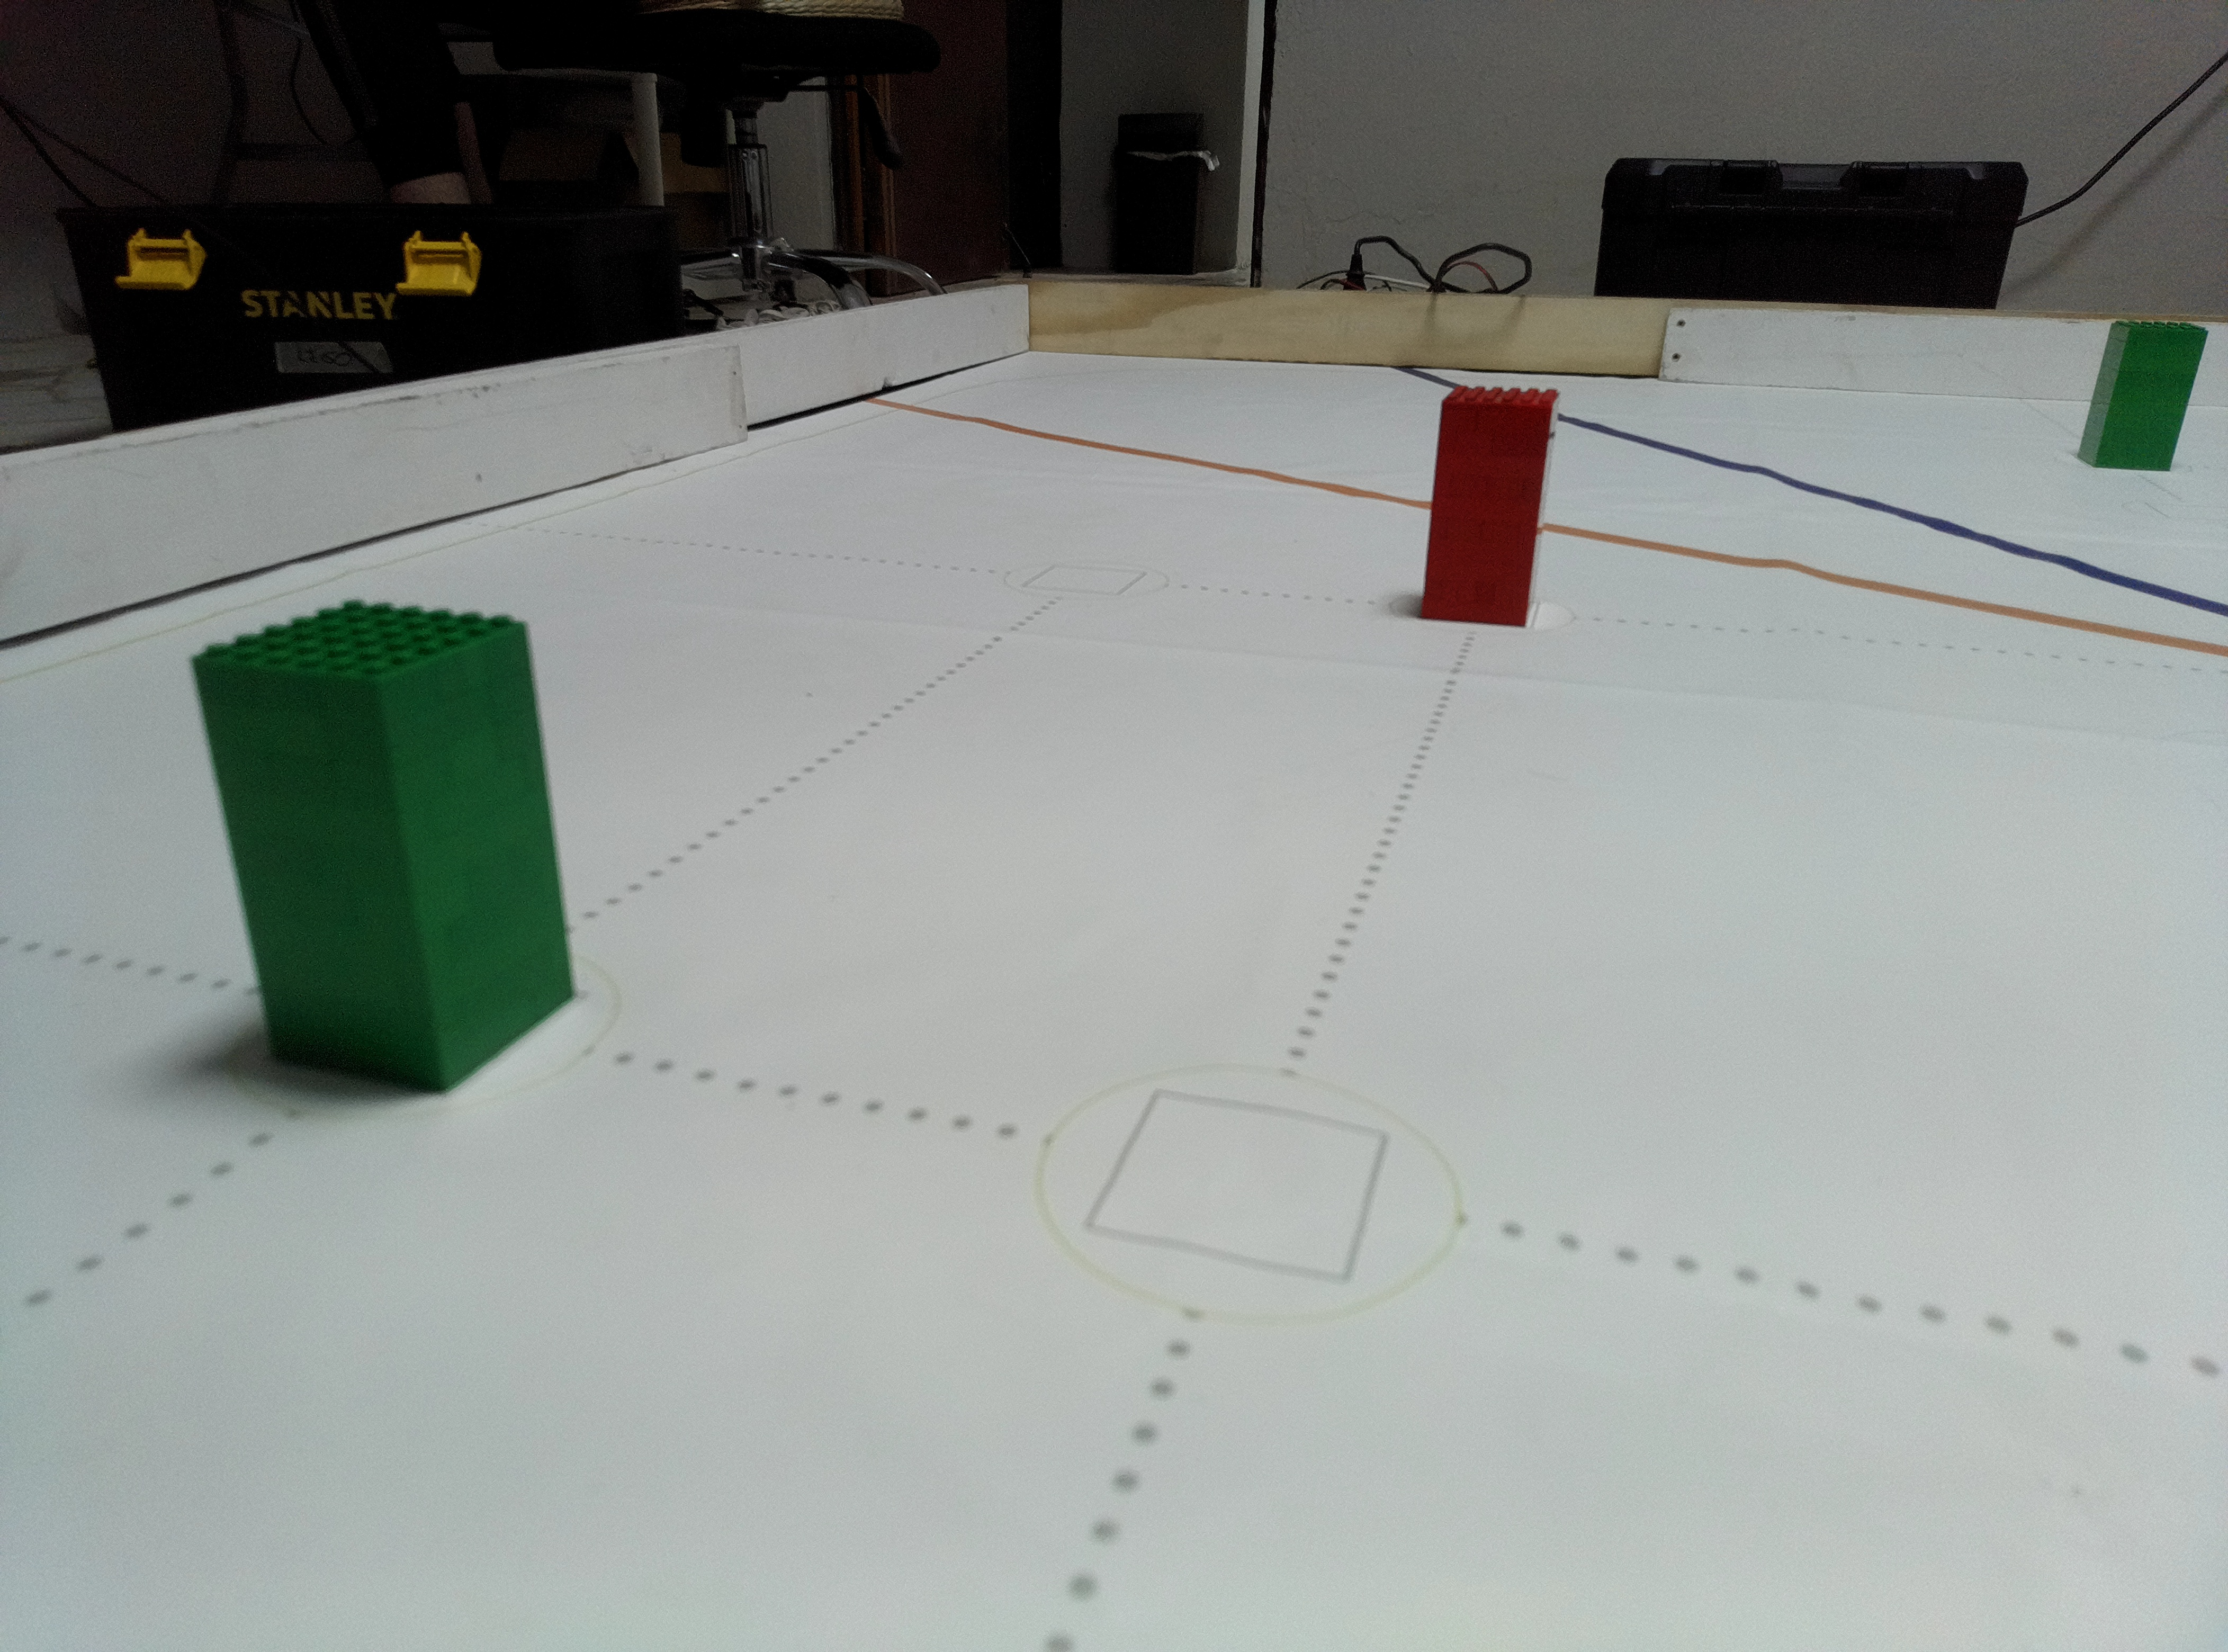greenbox: (186, 593, 590, 1097), (2075, 319, 2209, 472)
redbox: (1414, 385, 1565, 630)
